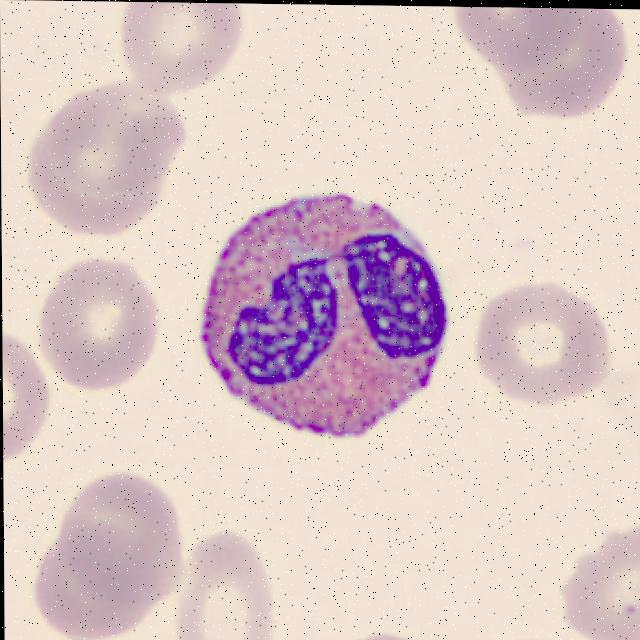eosinophil: (200, 174, 456, 461)
rbc: (473, 262, 612, 410), (16, 115, 171, 242), (39, 248, 173, 393), (48, 79, 188, 202), (492, 7, 634, 124), (66, 478, 189, 611), (32, 526, 156, 639), (169, 525, 288, 640), (124, 2, 258, 98), (559, 511, 640, 640), (2, 318, 61, 489), (442, 7, 577, 73), (326, 623, 434, 640), (496, 638, 567, 640)
